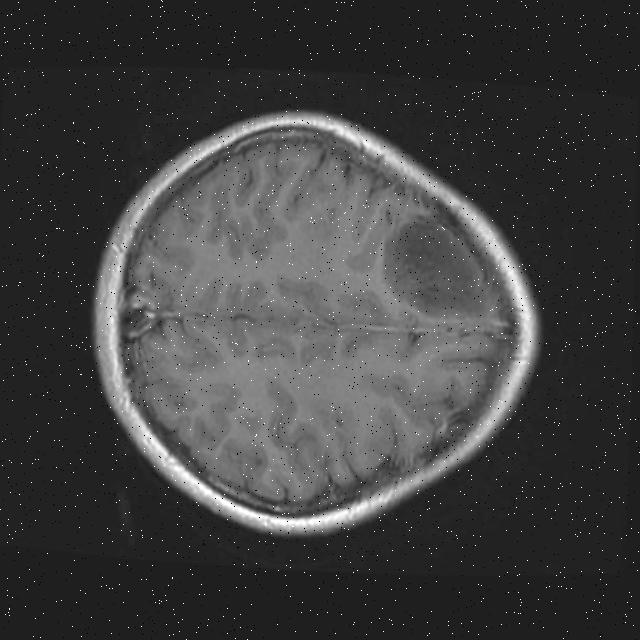Glioma: (379, 219, 494, 319)
